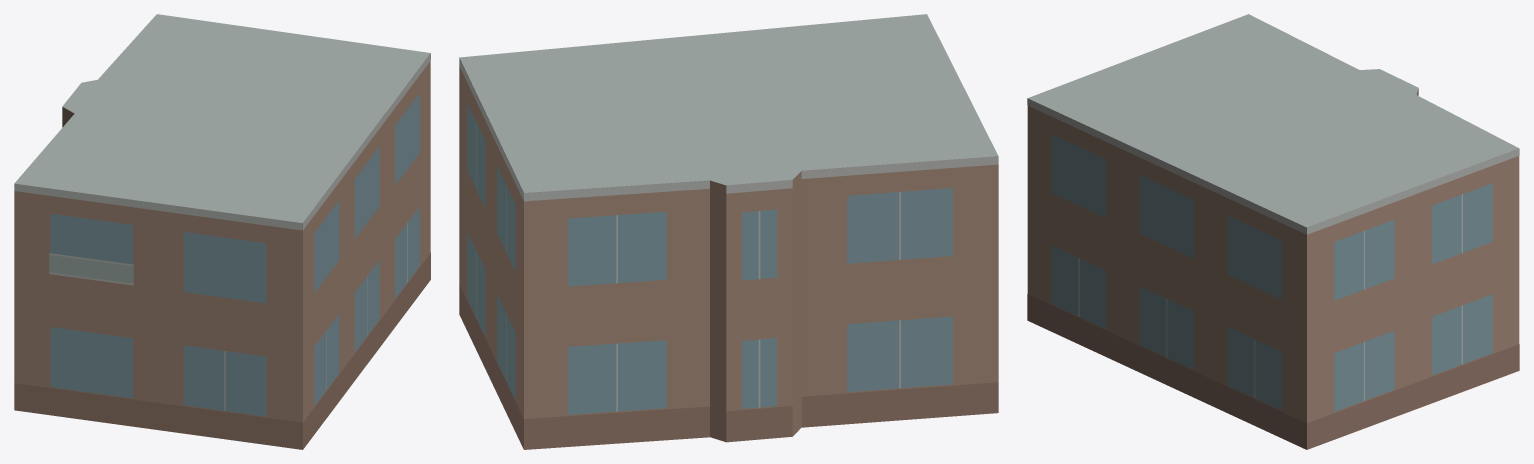
Rendered from survey-upis-32928192.glb.
3 views of the same model, side by side, from view 1: azimuth 30°, elevation 25°; view 2: azimuth 150°, elevation 25°; view 3: azimuth 270°, elevation 25° (orthographic). The views are drawn at different scales.
Visible parts, largest first — view 1: survey-upis-32928192.tmp; view 2: survey-upis-32928192.tmp; view 3: survey-upis-32928192.tmp.
Part boxes in pixels (x1,y1,x2,y2): survey-upis-32928192.tmp: [14, 14, 430, 449]; survey-upis-32928192.tmp: [459, 14, 998, 449]; survey-upis-32928192.tmp: [1027, 14, 1519, 449].
Bounding box in the file's own units: 15.46 × 7.5 × 15.05.
